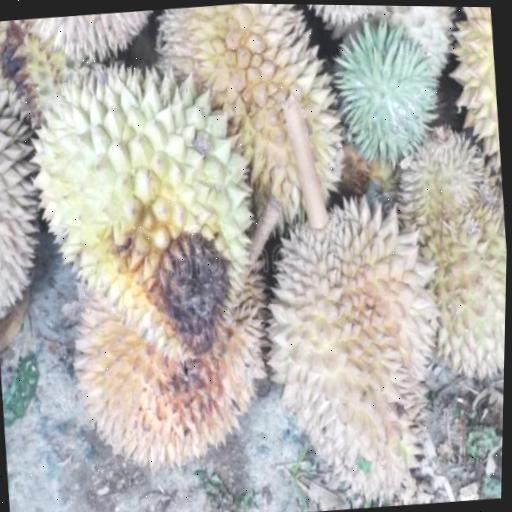rot: (4, 30, 292, 423), (46, 178, 346, 495)
